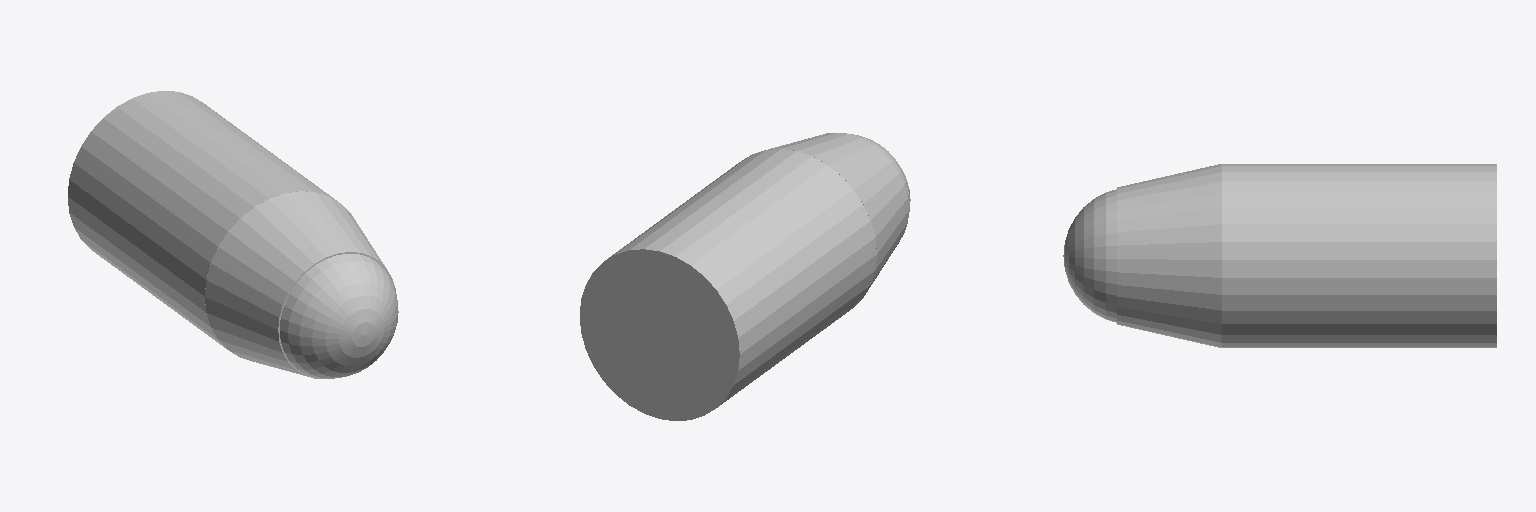
Rendered from ppsh41zd.obj.
The picture shows the model from 3 angles: view 1: azimuth 30°, elevation 25°; view 2: azimuth 150°, elevation 25°; view 3: azimuth 270°, elevation 25°; orthographic projection.
Visible parts, largest first — view 1: 1; view 2: 1; view 3: 1.
Part boxes in pixels (left/top/right/bottom): 1: left=68, top=91, right=398, bottom=378; 1: left=580, top=133, right=910, bottom=420; 1: left=1063, top=164, right=1496, bottom=347.
Bounding box in the file's own units: 2 × 2 × 4.68.